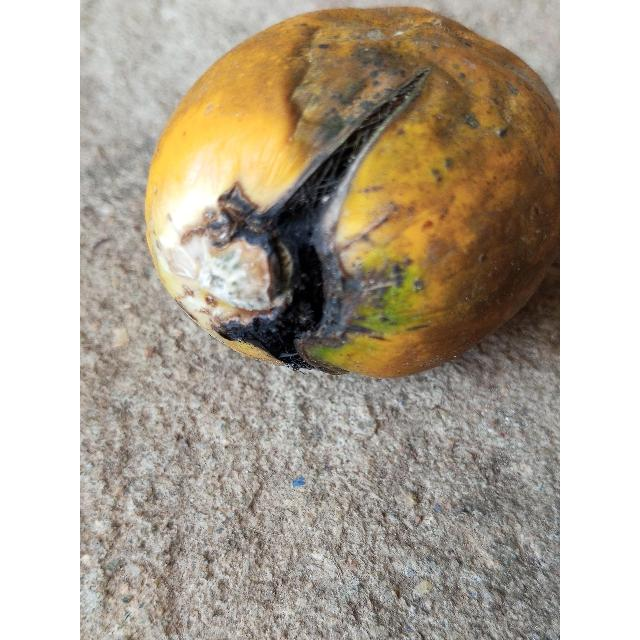damaged: (145, 9, 560, 377)
